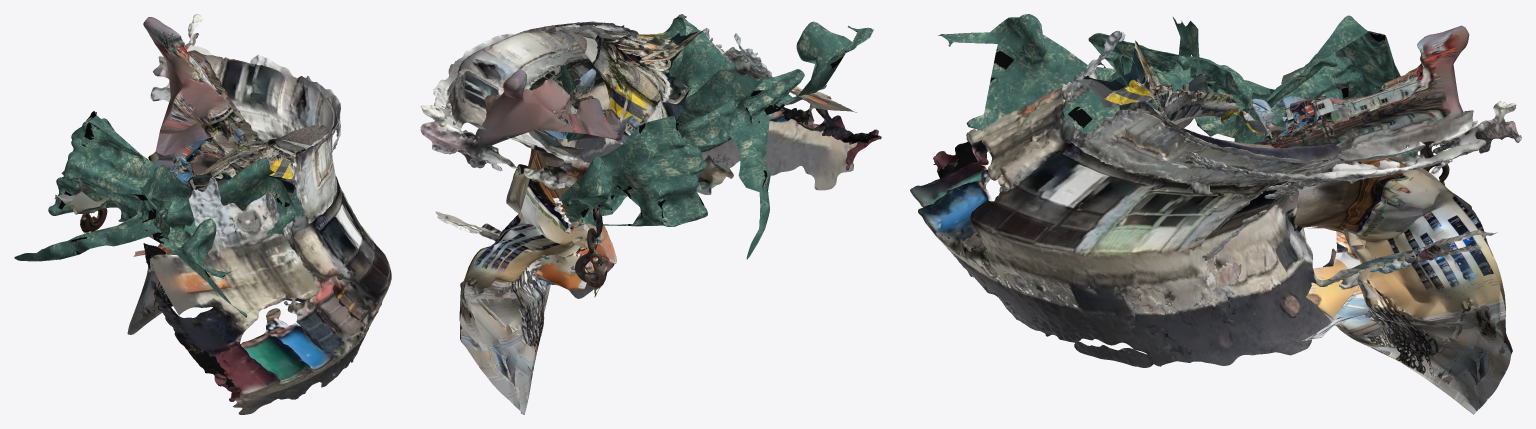
3 renders of one model, left to right at view 1: azimuth 30°, elevation 25°; view 2: azimuth 150°, elevation 25°; view 3: azimuth 270°, elevation 25°, orthographic. The views are drawn at different scales.
Visible parts, largest first — view 1: Object011, Object022, Object021, Object019, Object, Object030; view 2: Object011, Object022, Object, Object019, Object021, Object030; view 3: Object011, Object, Object022, Object021, Object019.
Boxes of the visible parts, x1,y1,x2,y2 form: Object011: (143,14,391,414); Object022: (14,111,303,317); Object021: (143,17,260,191); Object019: (187,125,326,190); Object: (127,152,176,334); Object030: (54,177,109,233); Object011: (420,21,881,298); Object022: (552,17,873,259); Object: (459,145,616,414); Object019: (558,14,704,123); Object021: (475,68,640,145); Object030: (567,155,733,297); Object011: (910,30,1521,367); Object: (1294,156,1512,414); Object022: (938,14,1425,156); Object021: (1242,25,1469,148); Object019: (1079,40,1283,136).
Bounding box in the file's own units: 4.42 × 4.56 × 6.39.
6 materials, 6 textured.
